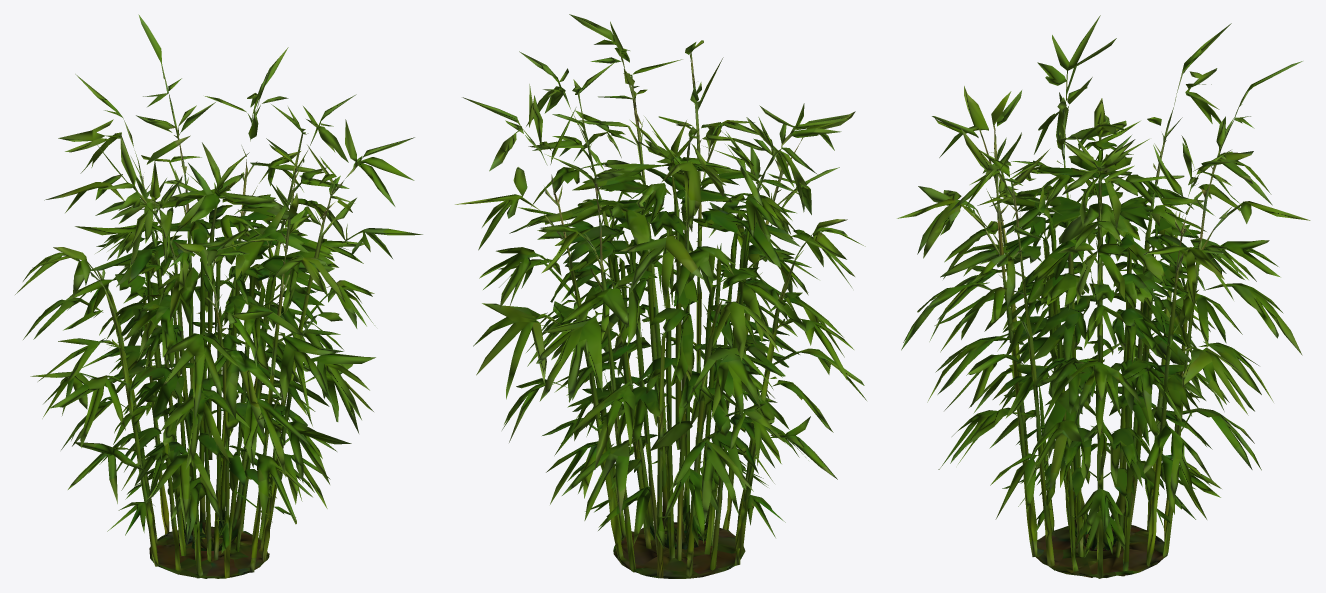
The model's file is RuoZhu.glb.
3 views of the same model, side by side, from view 1: azimuth 30°, elevation 25°; view 2: azimuth 150°, elevation 25°; view 3: azimuth 270°, elevation 25° (orthographic). The views are drawn at different scales.
Parts seen in each view (by area): view 1: tripo_node_b273c0d3-5d86-4880-8419-000b9f41ceee; view 2: tripo_node_b273c0d3-5d86-4880-8419-000b9f41ceee; view 3: tripo_node_b273c0d3-5d86-4880-8419-000b9f41ceee.
Part boxes in pixels (x1,y1,x2,y2): tripo_node_b273c0d3-5d86-4880-8419-000b9f41ceee: [15, 14, 422, 578]; tripo_node_b273c0d3-5d86-4880-8419-000b9f41ceee: [455, 14, 866, 578]; tripo_node_b273c0d3-5d86-4880-8419-000b9f41ceee: [897, 15, 1310, 578].
Bounding box in the file's own units: 0.7223 × 0.9661 × 0.7241.
1 material, 1 textured.
